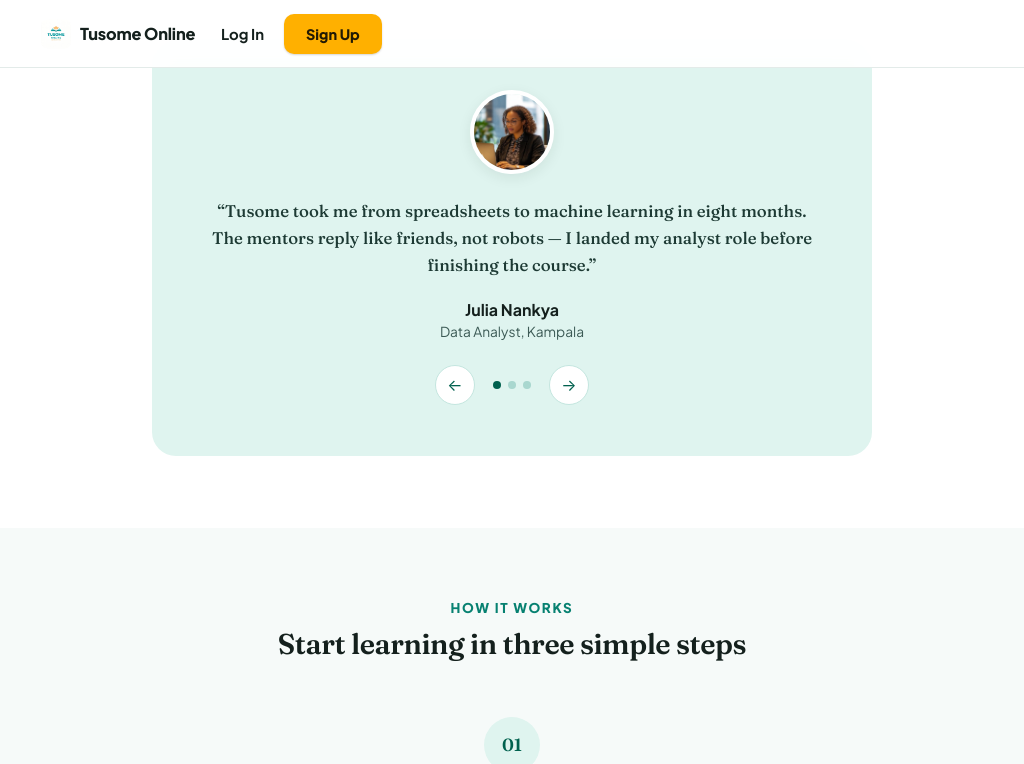
it: Given the landing page › when the next-story arrow is clicked, then the testimonial changes
(page scrolled)
Expected: the text "Julia Nankya" is shown, [465,299,559,320]
What coordinates should you click on to do the following:
click the button named "next story"
I would click on:
 (569, 385)
Its box is [549,365,589,405].
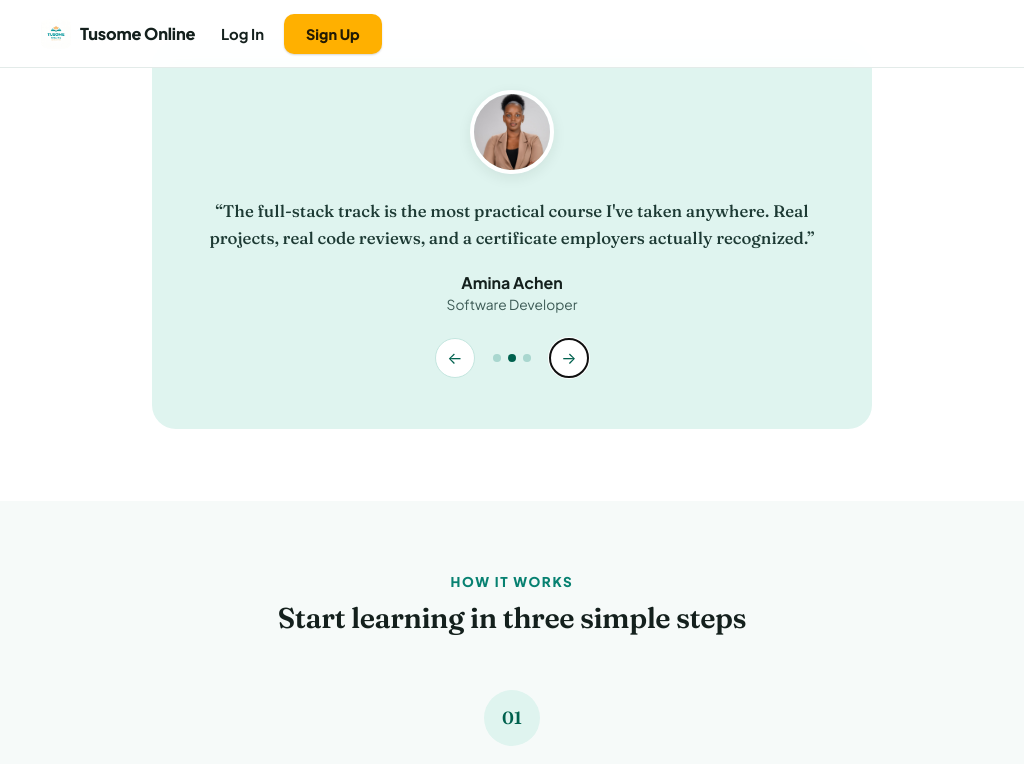
Result: the text "Amina Achen" is shown at [461,272,563,293]
Result: the text "Julia Nankya" is gone
